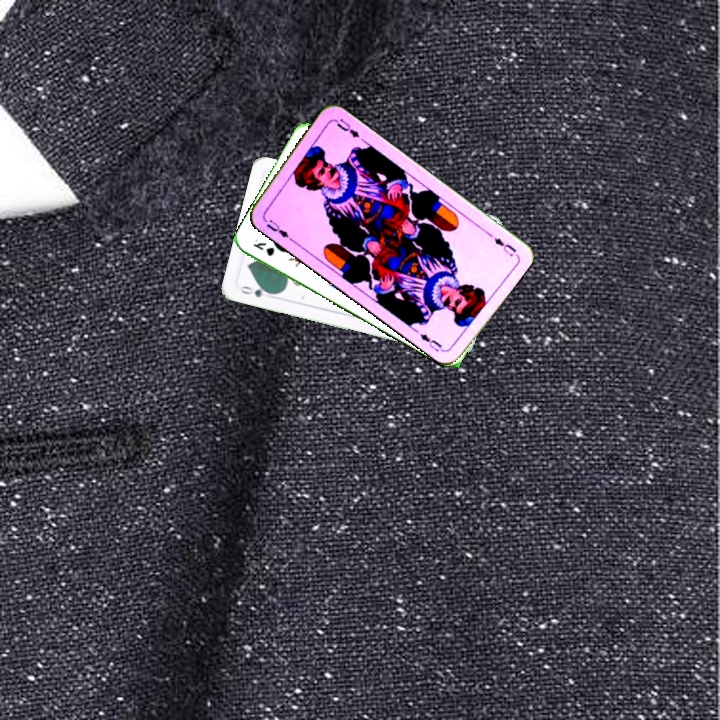EU: (490, 233, 519, 259), (262, 215, 291, 240)
GK: (249, 235, 277, 259)
GO: (237, 282, 276, 300)
